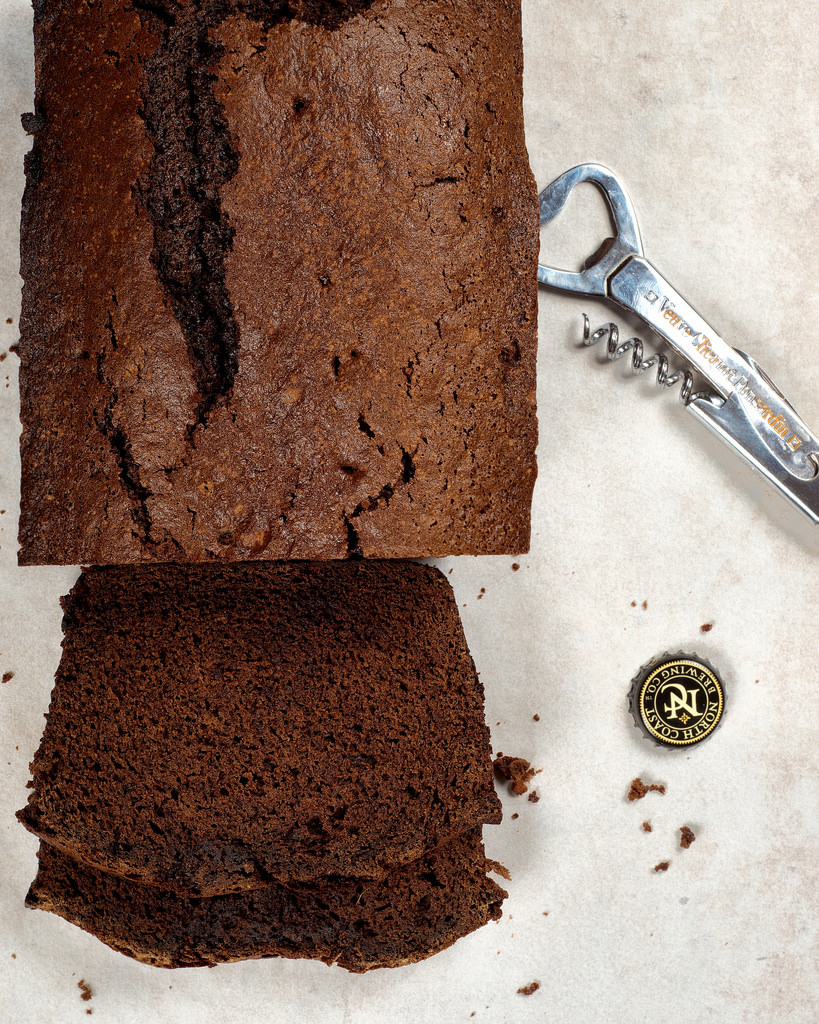slice of bread: (44, 585, 514, 994), (31, 564, 503, 896)
